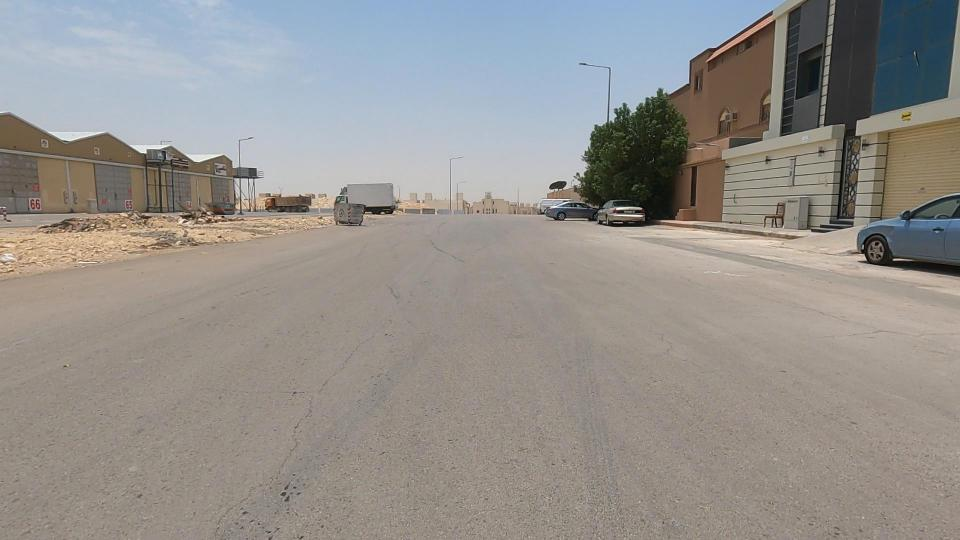GARBAGE: (147, 179, 255, 252), (0, 230, 39, 287)
